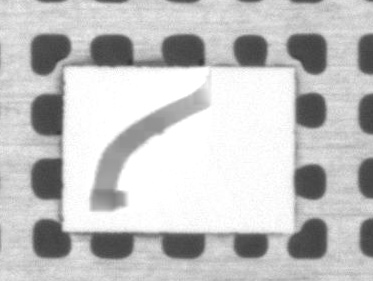DIE_INK: (84, 77, 210, 216)
